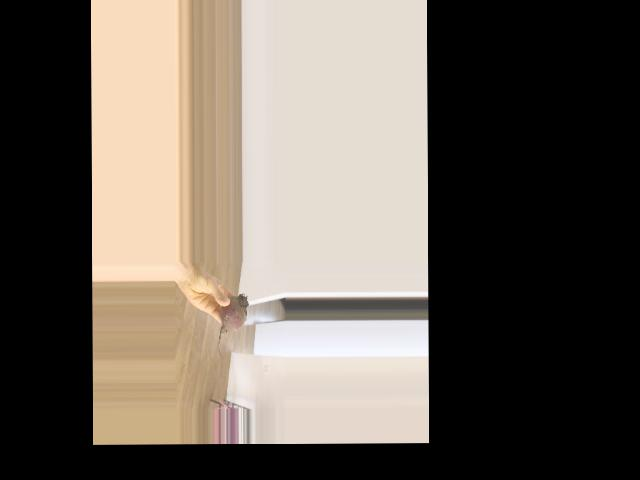beet: (217, 294, 248, 359)
